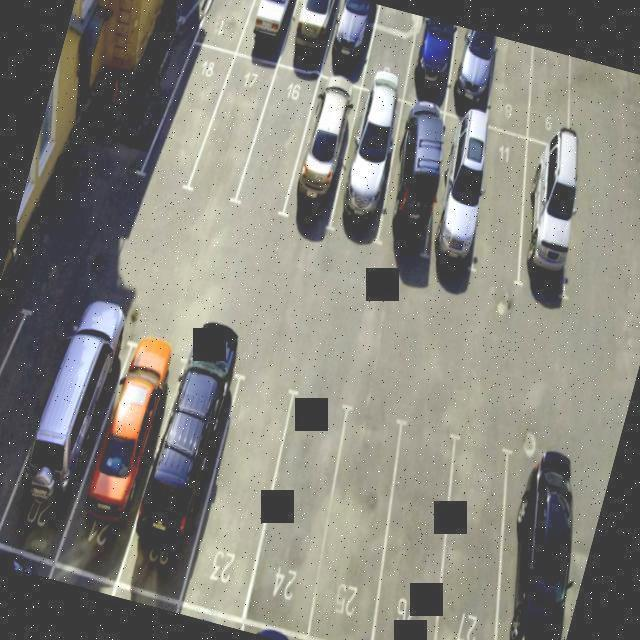space-empty: (239, 392, 359, 639), (358, 415, 479, 640), (298, 410, 413, 640), (183, 377, 296, 611), (413, 431, 533, 640), (139, 36, 237, 198), (450, 127, 544, 289), (0, 308, 58, 547), (195, 48, 276, 214), (241, 58, 322, 212), (511, 46, 583, 136), (357, 5, 418, 103), (478, 37, 544, 127), (200, 0, 260, 47)
space-occupied: (122, 346, 245, 603), (0, 314, 124, 562), (61, 342, 185, 575), (470, 434, 599, 640), (500, 128, 598, 306), (409, 102, 502, 282), (320, 91, 408, 255), (284, 77, 367, 238), (372, 100, 456, 254), (403, 17, 463, 110), (321, 0, 385, 85), (439, 27, 498, 118), (278, 0, 344, 76), (236, 0, 301, 67)
